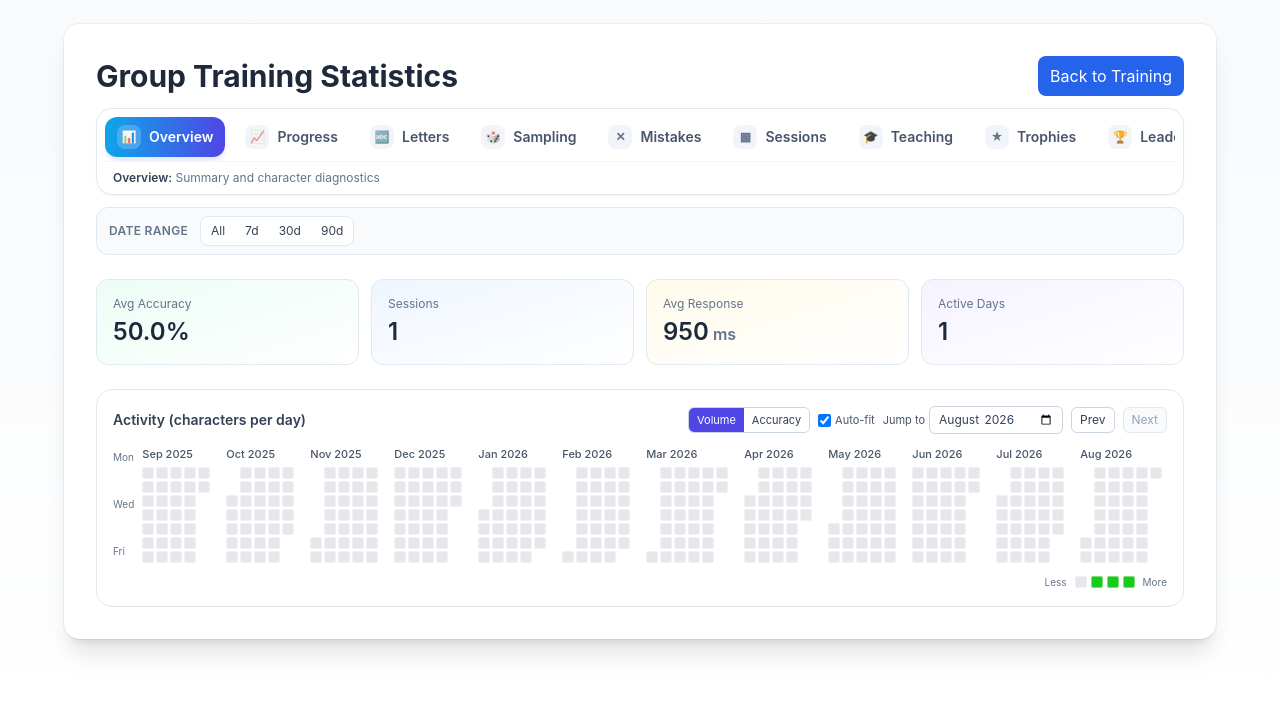
GroupTrainingStats › should show bigram heatmap on the Mistakes tab when sessions exist
This screenshot has width=1280, height=720.
Expected: the text "Avg Accuracy" is shown, [113, 296, 191, 311]
Click the button "✕ Mistakes".
click(655, 137)  # box [596, 117, 714, 157]
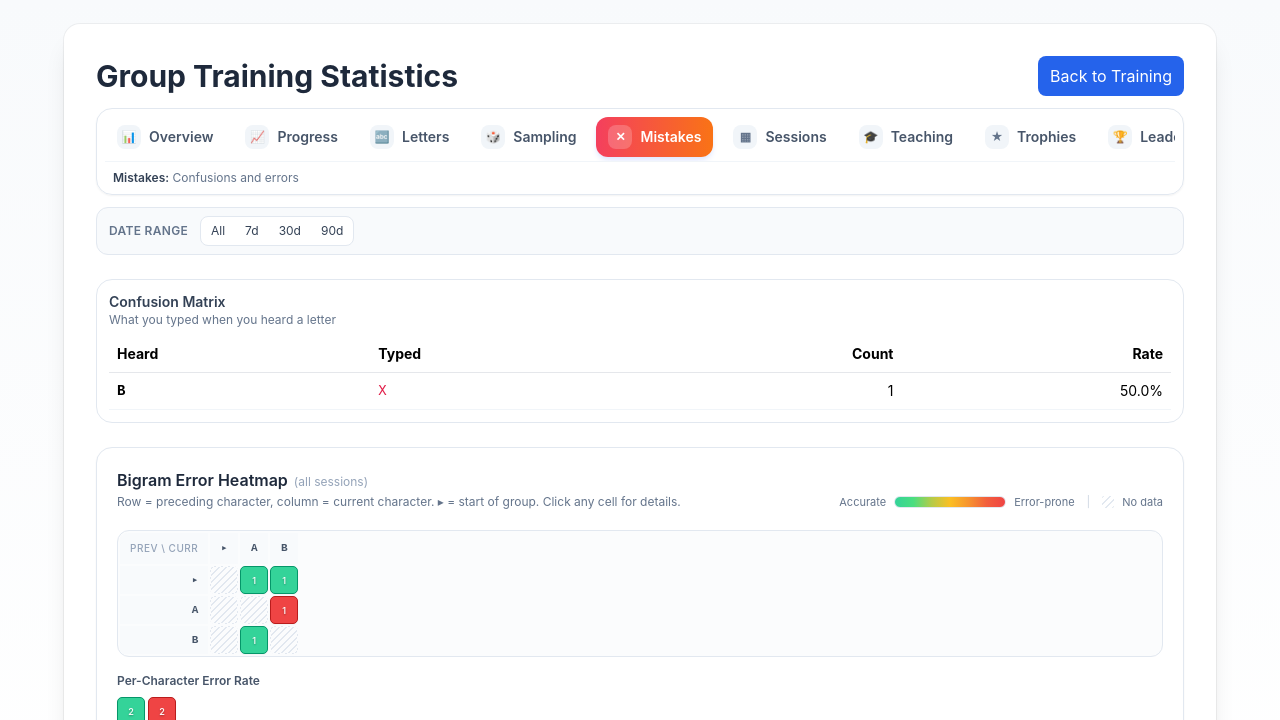
Expected: the heading "Bigram Error Heatmap(all sessions)" is shown, [117, 470, 368, 490]
Expected: the heading "Per-Character Error Rate" is shown, [117, 673, 260, 688]
